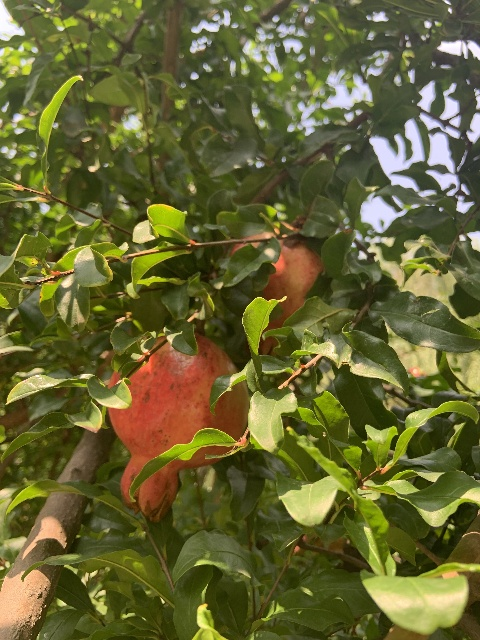ripe: (105, 332, 248, 521), (229, 221, 324, 358)
